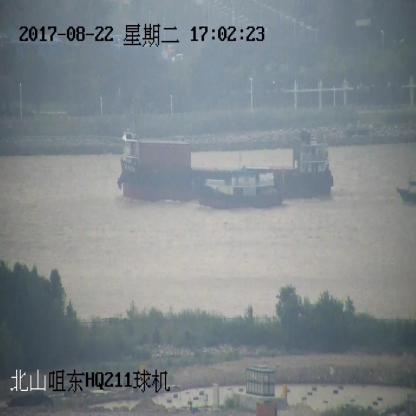Fishing Boat: (195, 166, 282, 208)
